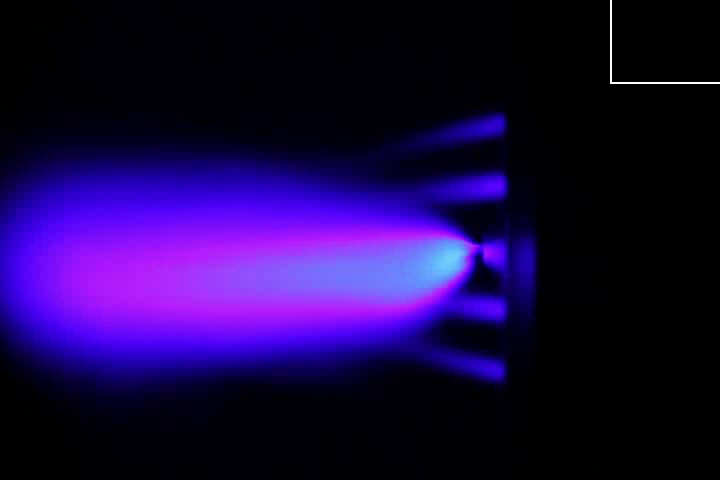burner cap: (483, 236, 507, 269)
pilot flame: (404, 339, 502, 383), (393, 110, 506, 147), (394, 176, 509, 209), (429, 293, 510, 325)
stable: (159, 218, 479, 307)
